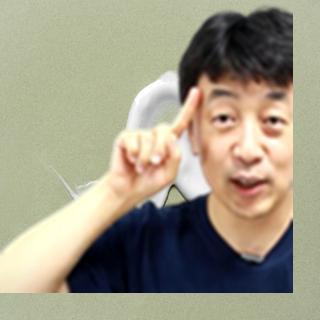IRRITATED: (105, 84, 203, 202)
